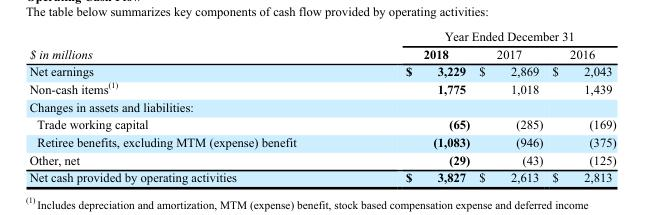table: (28, 28, 615, 184)
table column: (28, 28, 350, 184), (350, 28, 473, 184), (473, 28, 546, 184), (546, 28, 615, 184)
table column header: (28, 28, 615, 62)
table projected row header: (28, 97, 615, 115)
table row: (28, 44, 615, 62), (28, 79, 615, 97), (28, 97, 615, 115), (28, 132, 615, 150), (28, 150, 615, 168), (28, 62, 615, 79), (28, 115, 615, 132), (28, 28, 615, 44), (28, 168, 615, 184)
table spanning cell: (28, 28, 350, 62), (350, 28, 615, 44)
